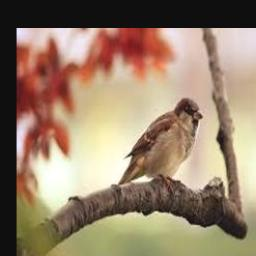Sparrow: (117, 98, 203, 185)
